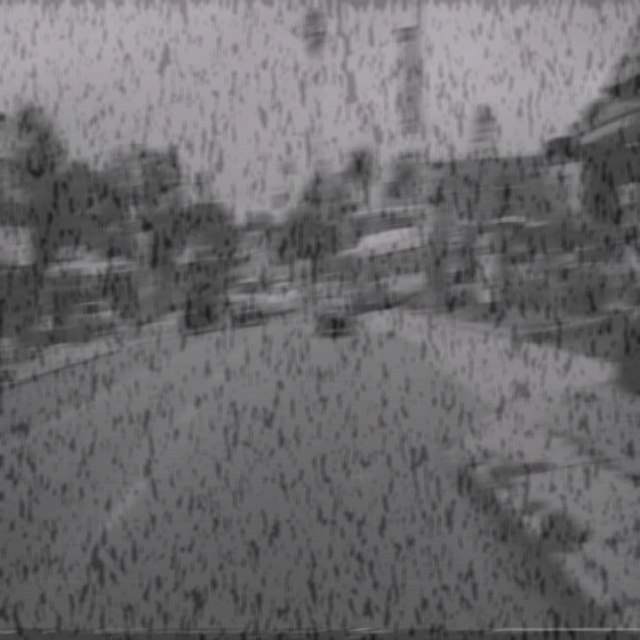dip: (411, 154, 435, 203)
